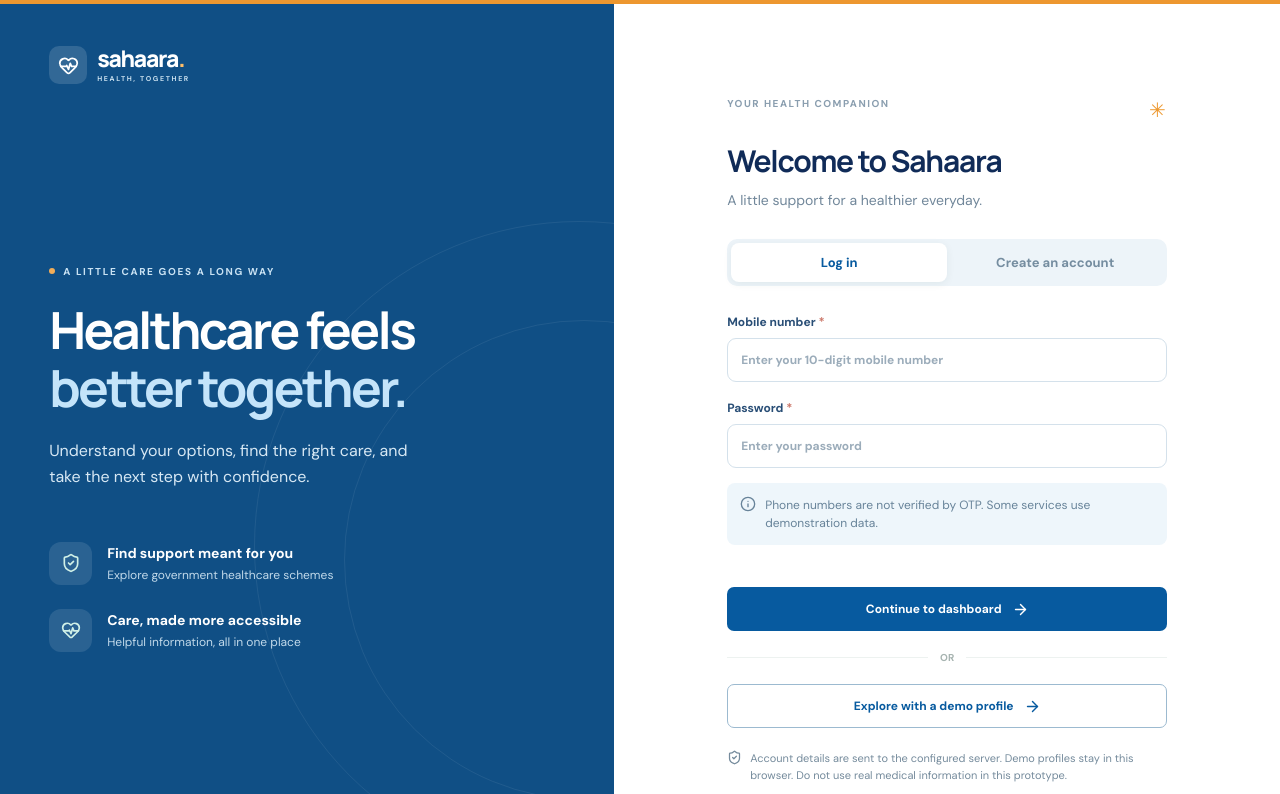
Test: guest can open demo dashboard and schemes
Later steps or results of the test are not shown.
expect the heading "Welcome to Sahaara" is shown: met, box [727,140,1002,181]
Click the button "Explore with a demo profile": (947, 706) [727,684,1167,728]
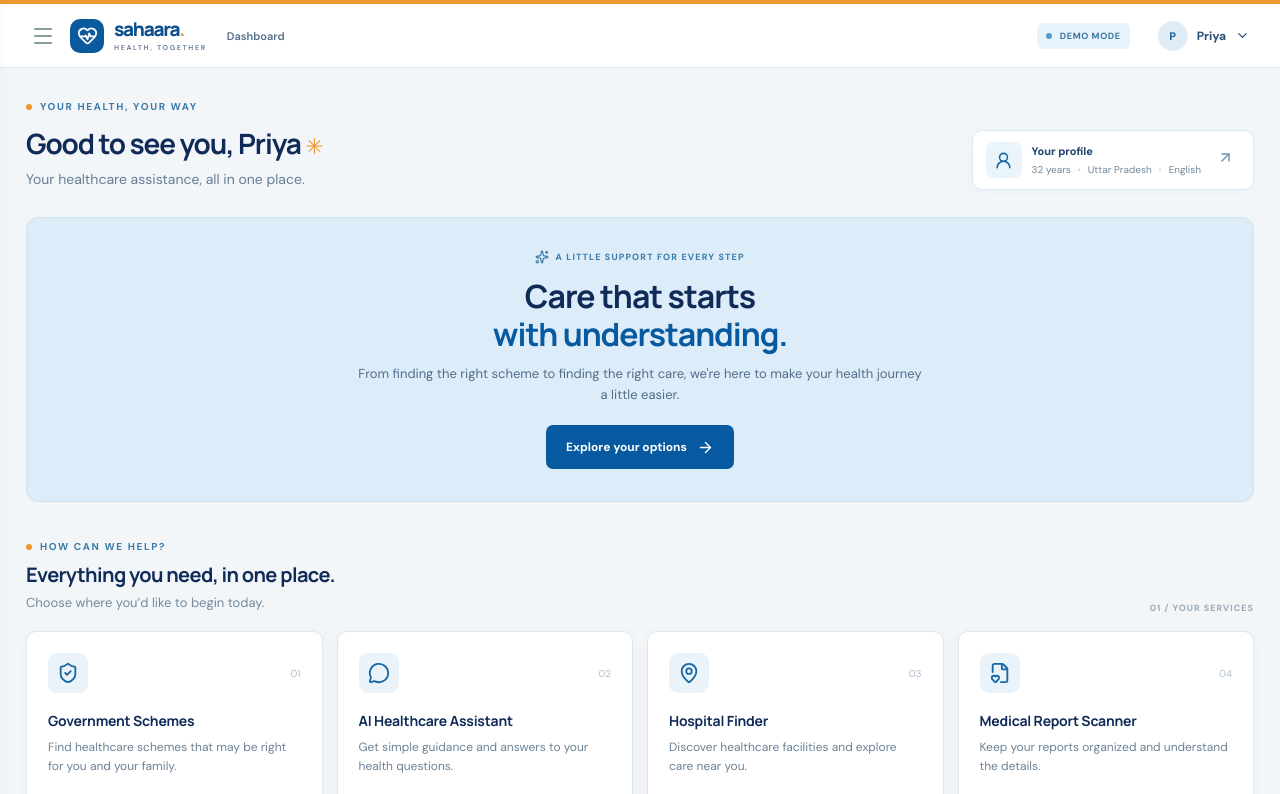
expect the heading "Good to see you, Priya ✳" is shown: met, box [26,124,322,162]
